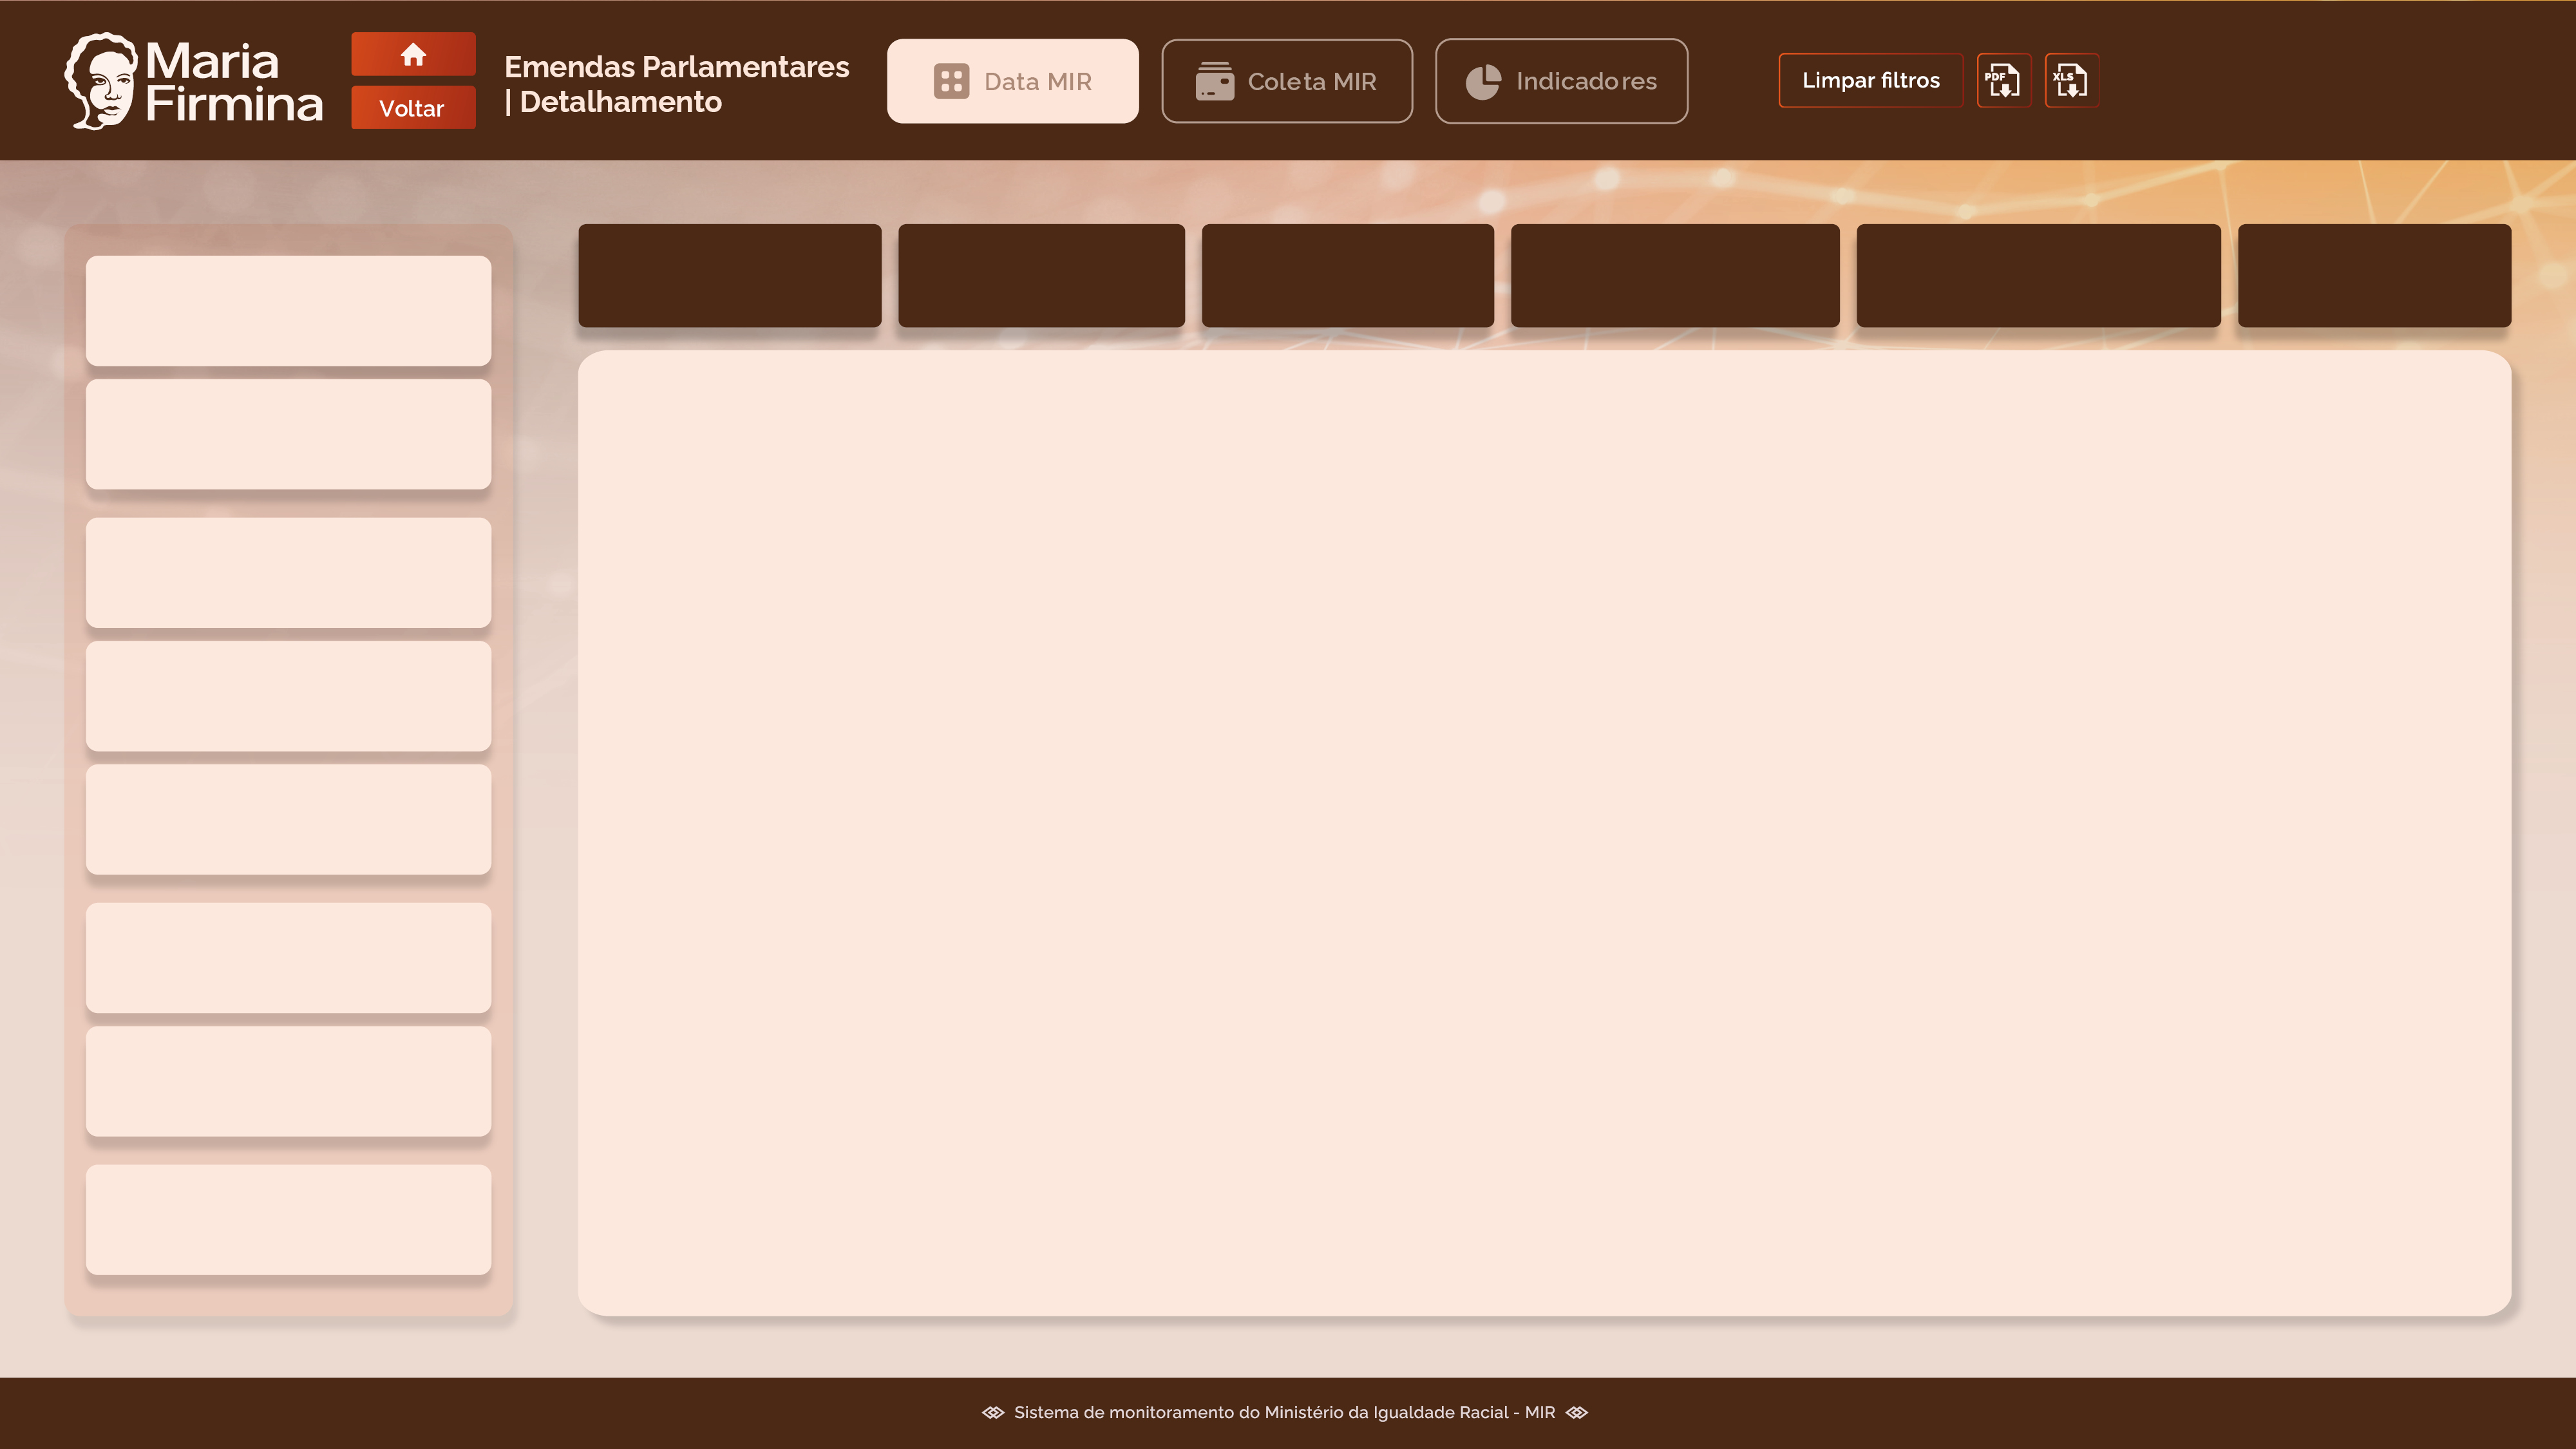

This screenshot's page, from the dashboard's own definition file:
{"tool":"powerbi","page":{"name":"Emendas Detalhamento","canvas":[1920,1080],"ordinal":7},"visuals":[{"type":"cardVisual","fields":{"Data":["Sum(emendas_execucao.despesas_empenhadas)"]},"box":[437.5,168.5,217.1,72.9],"z":0},{"type":"cardVisual","fields":{"Data":["Sum(emendas_execucao.despesas_liquidadas)"]},"box":[676.1,168.5,207.1,72.9],"z":1000},{"type":"cardVisual","fields":{"Data":["Sum(emendas_execucao.despesas_pagas)"]},"box":[904.6,168.5,210,72.9],"z":2000},{"type":"slicer","fields":{"Values":["emendas_execucao.ne_ccor_ano_emissao"]},"box":[64.3,288.6,301.4,71.4],"z":3000},{"type":"slicer","fields":{"Values":["emendas_execucao.autor_emendas_orcamento_nome"]},"box":[62.9,391.4,302.9,70],"z":4000},{"type":"slicer","fields":{"Values":["emendas_execucao.cargo_autor"]},"box":[62.9,484.3,302.9,68.6],"z":5000},{"type":"slicer","fields":{"Values":["emendas_execucao.codigo+acaoajustada"]},"box":[64.3,192.9,301.4,78.6],"z":6000},{"type":"tableEx","fields":{"Values":["emendas_execucao.ne_ccor_ano_emissao","emendas_execucao.numero_instrumento","emendas_execucao.tipo_instrumento","emendas_execucao.modalidade","emendas_execucao.autor","emendas_execucao.uf_autor","emendas_execucao.partido","Sum(emendas_execucao.dotacao_inicial)","Sum(emendas_execucao.despesas_empenhadas)","Sum(emendas_execucao.despesas_pagas)","emendas_execucao.programa","emendas_execucao.acao_ajustada"]},"box":[435,265,1435,713.8],"z":7000},{"type":"slicer","fields":{"Values":["emendas_execucao.codigo+programa"]},"box":[64.3,678.6,301.4,71.4],"z":8000},{"type":"slicer","fields":{"Values":["emendas_execucao.uf_autor"]},"box":[64.3,767.1,301.4,75.7],"z":9000},{"type":"textbox","box":[0,1917.1,1420,82.9],"z":10000},{"type":"slicer","fields":{"Values":["emendas_execucao.partido"]},"box":[64.3,574.3,301.4,74.3],"z":11000},{"type":"cardVisual","fields":{"Data":["Sum(emendas_execucao.restos_a_pagar_pagos)"]},"box":[1391.8,168.5,264.3,72.9],"z":13000},{"type":"cardVisual","fields":{"Data":["_medidas.Percentual Pago"]},"box":[1136.1,169.9,230,71.4],"z":14000},{"type":"cardVisual","fields":{"Data":["Sum(emendas_execucao.dotacao_inicial)"]},"box":[1676.1,168.5,197.1,72.9],"z":15000},{"type":"slicer","fields":{"Values":["emendas_execucao.tipo_instrumento"]},"box":[64.3,871.4,301.4,75.7],"z":16000},{"type":"actionButton","box":[261.5,62,94.3,32.9],"z":17000},{"type":"actionButton","box":[261.7,22.8,92.2,33.3],"z":18000},{"type":"textbox","box":[1642.6,29.3,167.6,71.8],"z":19000},{"type":"actionButton","box":[1326.7,40.7,137.8,38.9],"z":20000},{"type":"image","box":[1820,42,53.3,37.8],"z":21000},{"type":"actionButton","box":[661.3,28.7,187.3,62.7],"z":22000},{"type":"actionButton","box":[866,28.7,187.3,62.7],"z":23000},{"type":"actionButton","box":[1069.3,30,187.3,62.7],"z":24000},{"type":"pageNavigator","box":[63.8,129.2,540,23.1],"z":25000}]}

Visuals, with their boxes on the page's 1920x1080 design canvas (x1, y1, x2, y2). These are canvas units, not pixel positions in the 2576x1449 screenshot, which may show the page scaled, cropped or inside an application window:
cardVisual - Sum(emendas_execucao.despesas_empenhadas): x1=438, y1=168, x2=655, y2=241
cardVisual - Sum(emendas_execucao.despesas_liquidadas): x1=676, y1=168, x2=883, y2=241
cardVisual - Sum(emendas_execucao.despesas_pagas): x1=905, y1=168, x2=1115, y2=241
slicer - emendas_execucao.ne_ccor_ano_emissao: x1=64, y1=289, x2=366, y2=360
slicer - emendas_execucao.autor_emendas_orcamento_nome: x1=63, y1=391, x2=366, y2=461
slicer - emendas_execucao.cargo_autor: x1=63, y1=484, x2=366, y2=553
slicer - emendas_execucao.codigo+acaoajustada: x1=64, y1=193, x2=366, y2=272
tableEx - emendas_execucao.ne_ccor_ano_emissao x emendas_execucao.numero_instrumento: x1=435, y1=265, x2=1870, y2=979
slicer - emendas_execucao.codigo+programa: x1=64, y1=679, x2=366, y2=750
slicer - emendas_execucao.uf_autor: x1=64, y1=767, x2=366, y2=843
textbox: x1=0, y1=1917, x2=1420, y2=2000
slicer - emendas_execucao.partido: x1=64, y1=574, x2=366, y2=649
cardVisual - Sum(emendas_execucao.restos_a_pagar_pagos): x1=1392, y1=168, x2=1656, y2=241
cardVisual - _medidas.Percentual Pago: x1=1136, y1=170, x2=1366, y2=241
cardVisual - Sum(emendas_execucao.dotacao_inicial): x1=1676, y1=168, x2=1873, y2=241
slicer - emendas_execucao.tipo_instrumento: x1=64, y1=871, x2=366, y2=947
actionButton: x1=262, y1=62, x2=356, y2=95
actionButton: x1=262, y1=23, x2=354, y2=56
textbox: x1=1643, y1=29, x2=1810, y2=101
actionButton: x1=1327, y1=41, x2=1464, y2=80
image: x1=1820, y1=42, x2=1873, y2=80
actionButton: x1=661, y1=29, x2=849, y2=91
actionButton: x1=866, y1=29, x2=1053, y2=91
actionButton: x1=1069, y1=30, x2=1257, y2=93
pageNavigator: x1=64, y1=129, x2=604, y2=152
